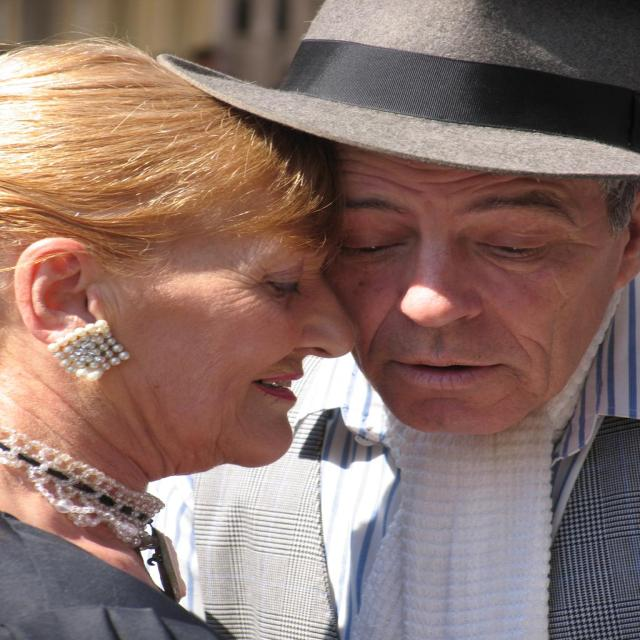Face: (335, 157, 629, 443), (160, 134, 349, 492)
